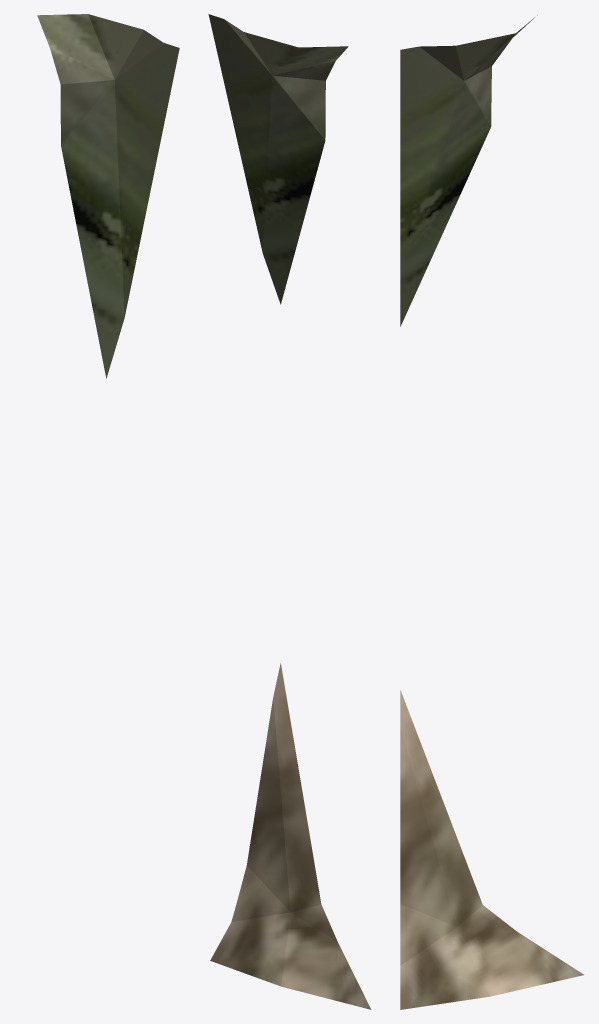
3 views of the same model, side by side, from view 1: azimuth 30°, elevation 25°; view 2: azimuth 210°, elevation 25°; view 3: azimuth 270°, elevation 25° (orthographic).
Bounding box in the file's own units: 0.2355 × 2.95 × 0.5122.
Materials: 1 (1 with a texture image).
